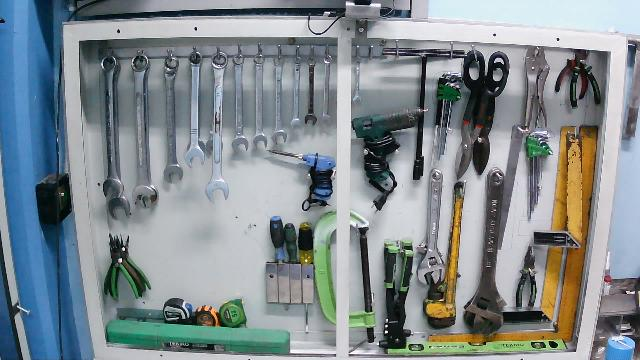gun_lem: (351, 105, 430, 214)
